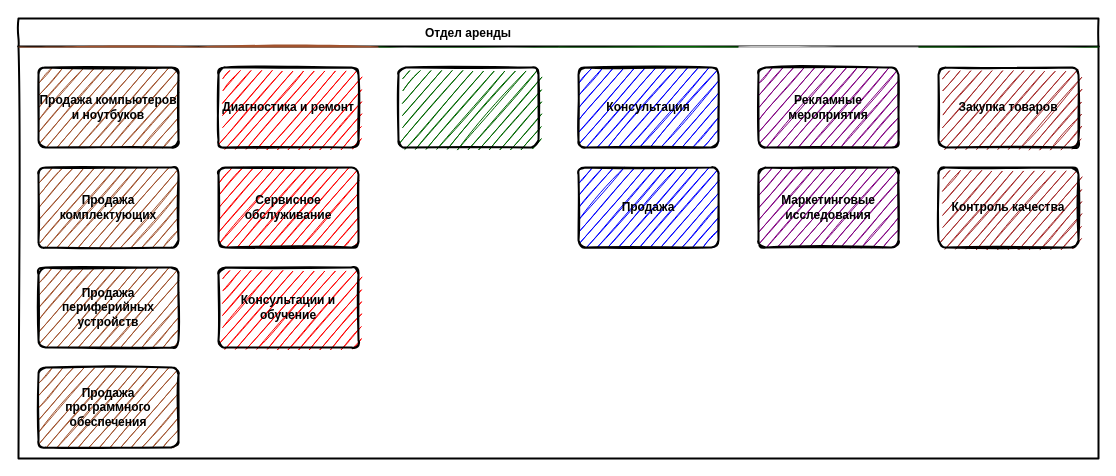
Image size: 1116x476. Some labels were removed from this diagram. Each missing label, with the box of its shape:
Аренда компьютерной техники: (397, 66, 539, 148)
Отдел закупок и снабжения: (918, 46, 1098, 458)
Отдел консультаций и продажи: (558, 46, 738, 458)
Отдел маркетинга и рекламы: (738, 46, 918, 458)
Отдел продаж: (18, 46, 198, 458)
Отдел тех. обслуживания и ремонта: (198, 46, 378, 458)
